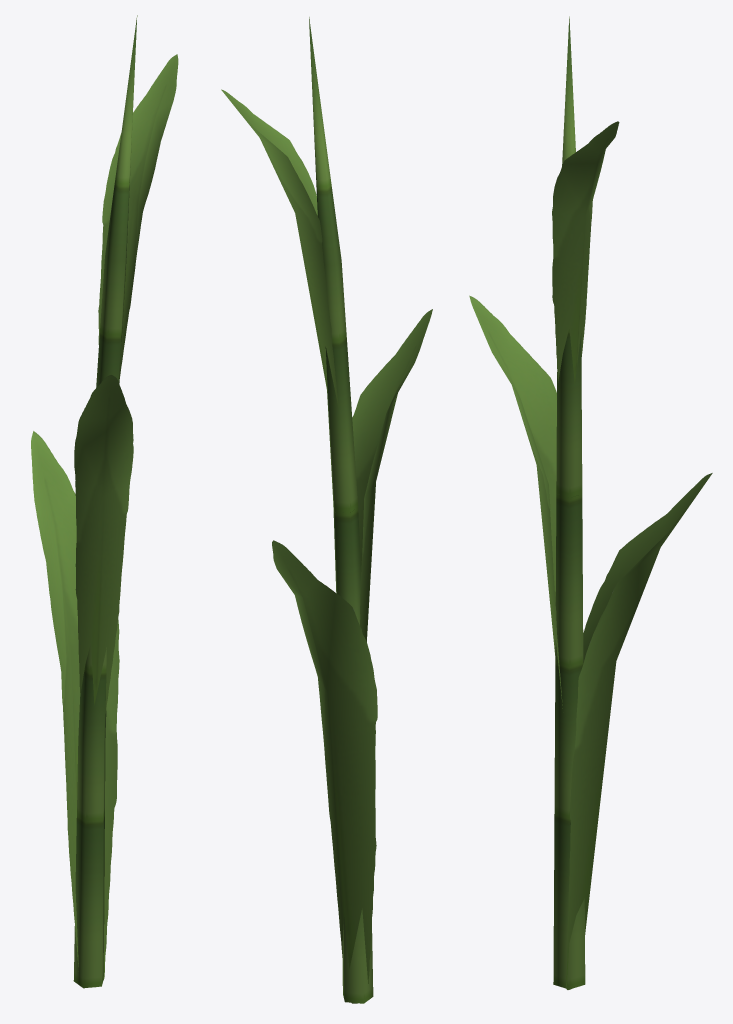
The model's file is Ctn_Reed_01_v02.FBX.
The picture shows the model from 3 angles, left to right: view 1: azimuth 30°, elevation 25°; view 2: azimuth 150°, elevation 25°; view 3: azimuth 270°, elevation 25°; orthographic projection. The views are drawn at different scales.
Visible parts, largest first — view 1: Ctn_Reed_01_v02; view 2: Ctn_Reed_01_v02; view 3: Ctn_Reed_01_v02.
Part boxes in pixels (x1,y1,x2,y2): Ctn_Reed_01_v02: (31,15,178,988); Ctn_Reed_01_v02: (221,17,432,1003); Ctn_Reed_01_v02: (469,16,712,989).
Bounding box in the file's own units: 10.44 × 62.33 × 14.3.
